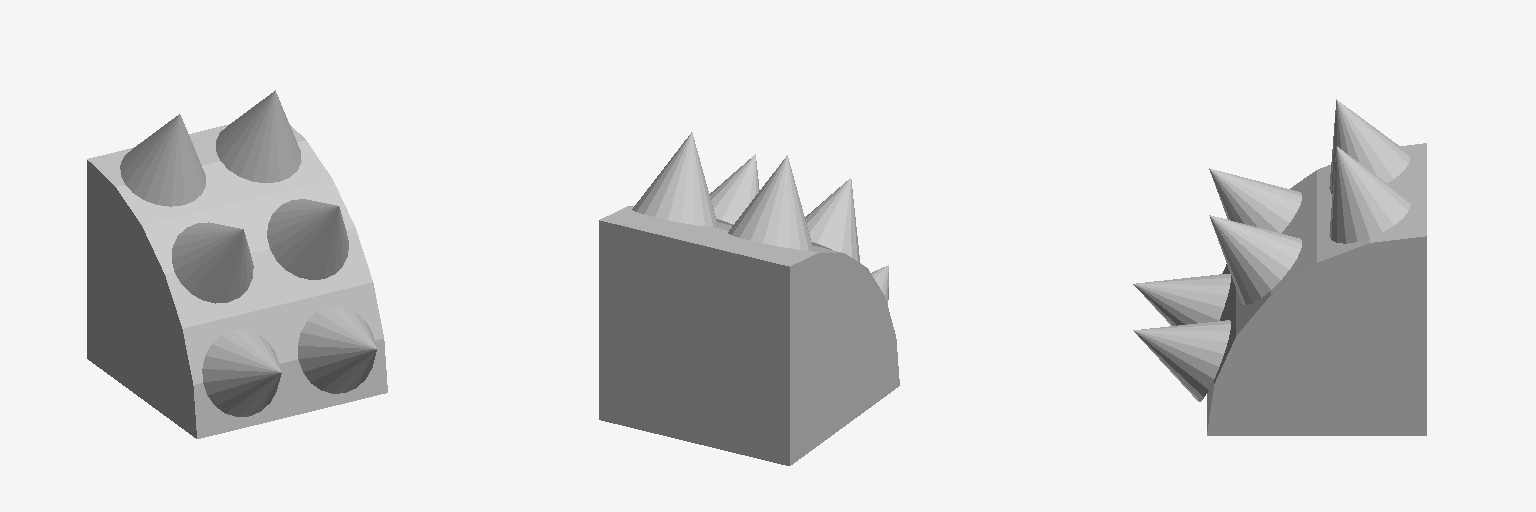
The model's file is obstacle08.obj.
3 renders of one model, left to right at view 1: azimuth 30°, elevation 25°; view 2: azimuth 150°, elevation 25°; view 3: azimuth 270°, elevation 25°, orthographic.
Visible parts, largest first — view 1: obstacle08; view 2: obstacle08; view 3: obstacle08.
Part boxes in pixels (x1,y1,x2,y2): obstacle08: (87,90,387,438); obstacle08: (599,132,899,465); obstacle08: (1133,99,1426,435).
Bounding box in the file's own units: 2 × 2.67 × 2.67.